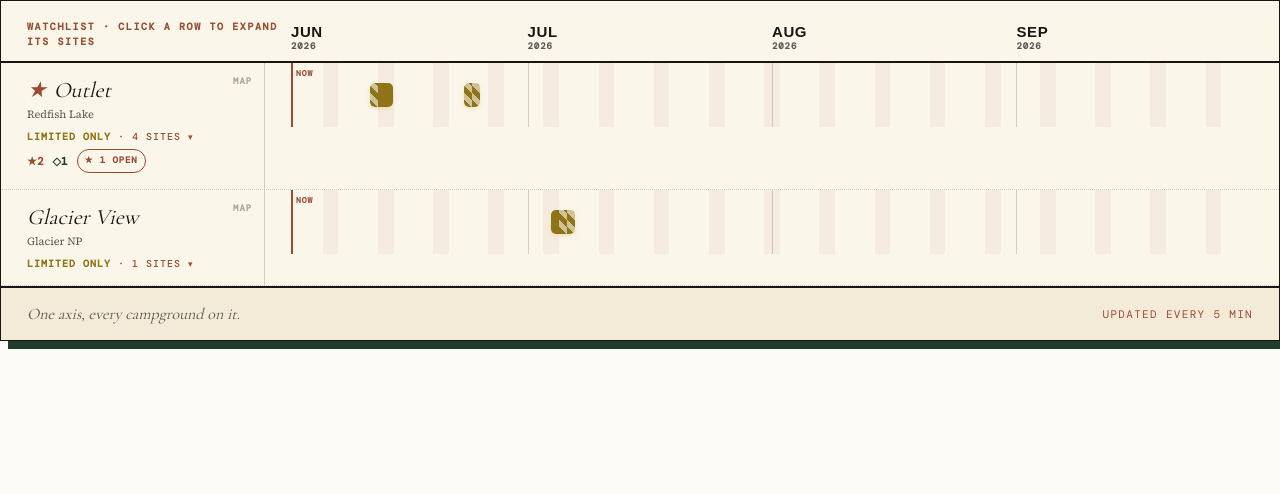
it: AvailabilityTimeline › expands and collapses a campground on click
The image size is (1280, 494).
Expected: the text "Site A-07" is not shown
Click the text "Outlet" at (69, 90), box [27, 77, 111, 103]
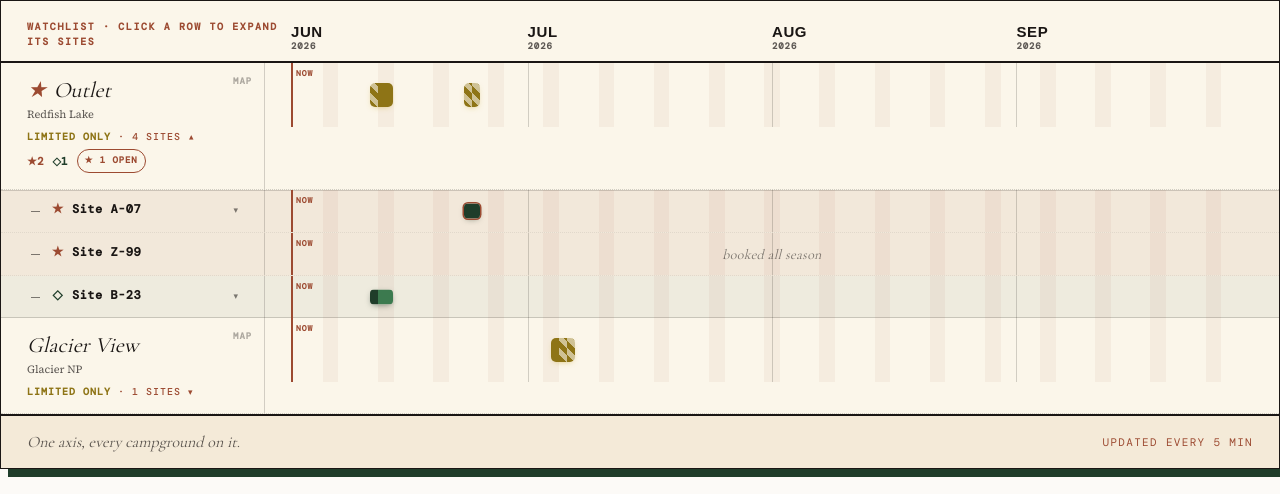
Expected: the text "Site A-07" is shown, [72, 200, 141, 218]
Click the text "Outlet" at (69, 90), box [27, 77, 111, 103]
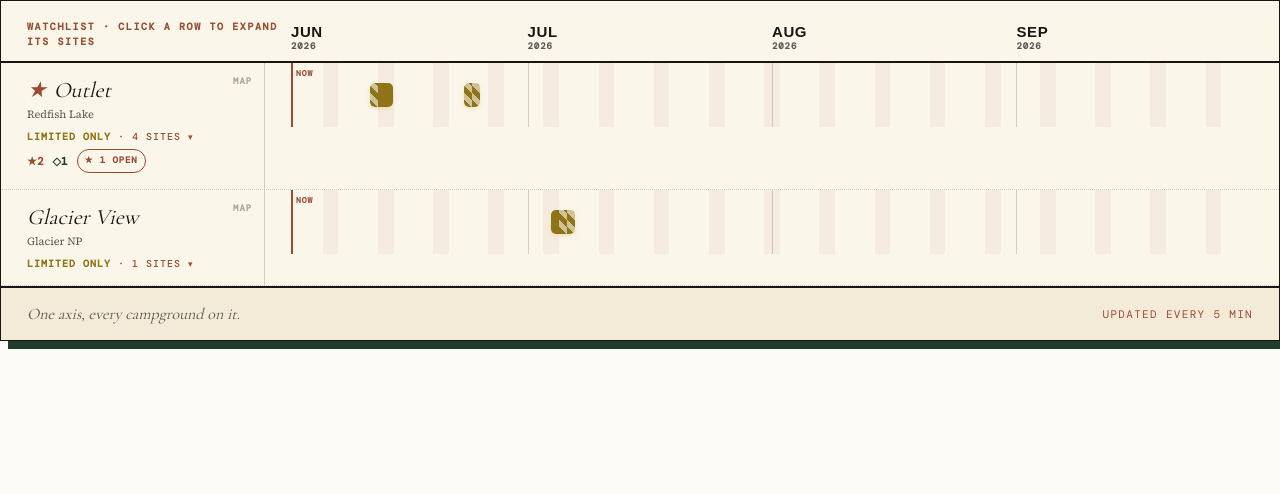
Expected: the button "Site A-07" is gone
